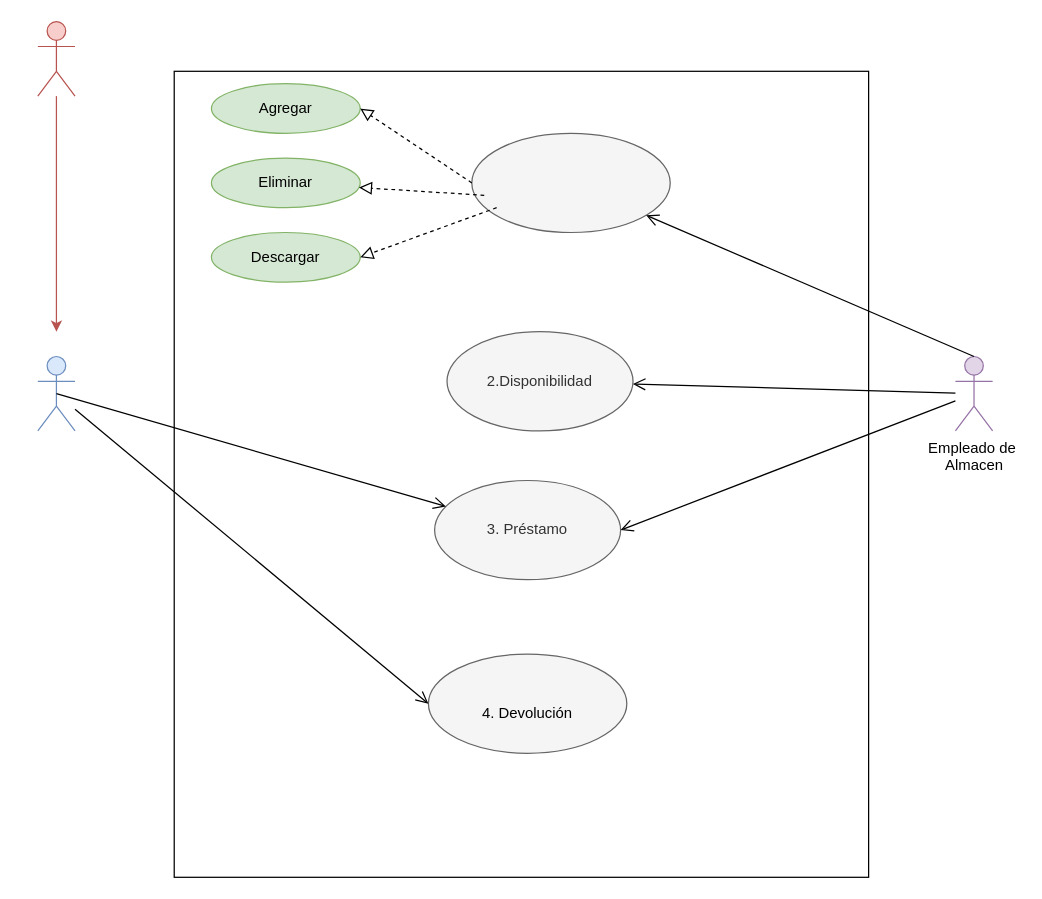
Image size: 1042x899. Some labels were removed from this diagram. The box of each missing label's shape, as (x1, y1, x2, y2) in pixels:
1. Mantenimiento_Titulos: (471, 132, 670, 232)
Cliente: (37, 20, 75, 96)
Empleado de caja: (37, 355, 75, 431)
